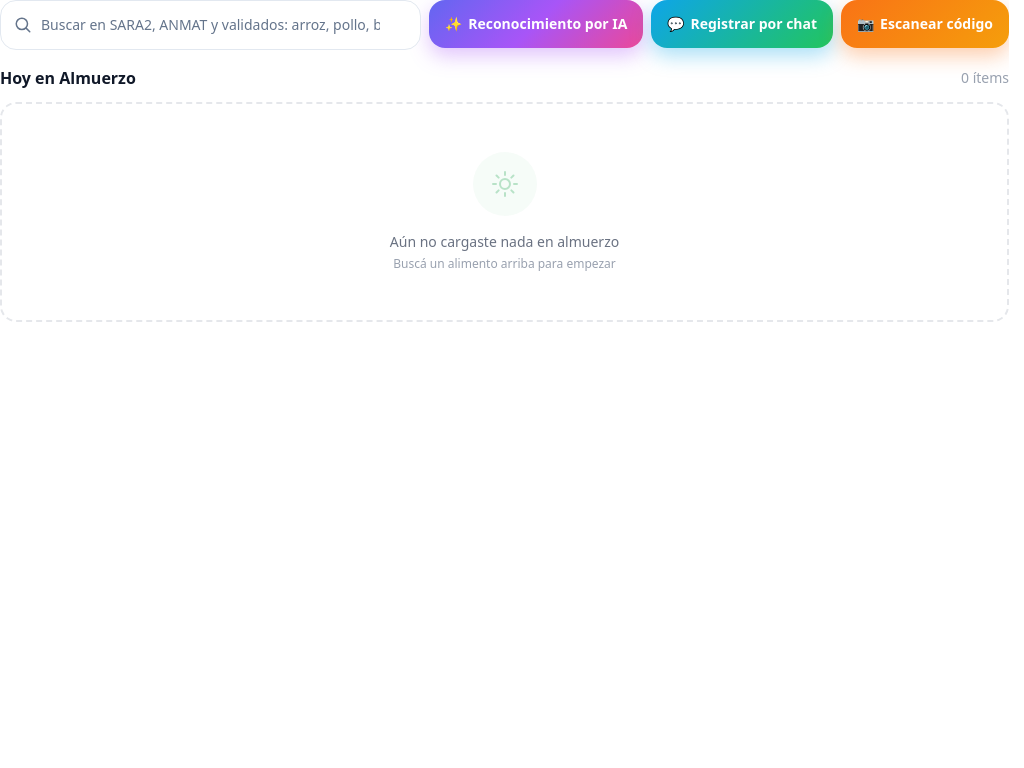
Test: Buscador de alimentos — integración ANMAT + SARA2 › badge de fuente › muestra el badge "ANMAT" para alimentos de ANMAT
Type "ace" into the field at (211, 25), box [0,0,421,50]
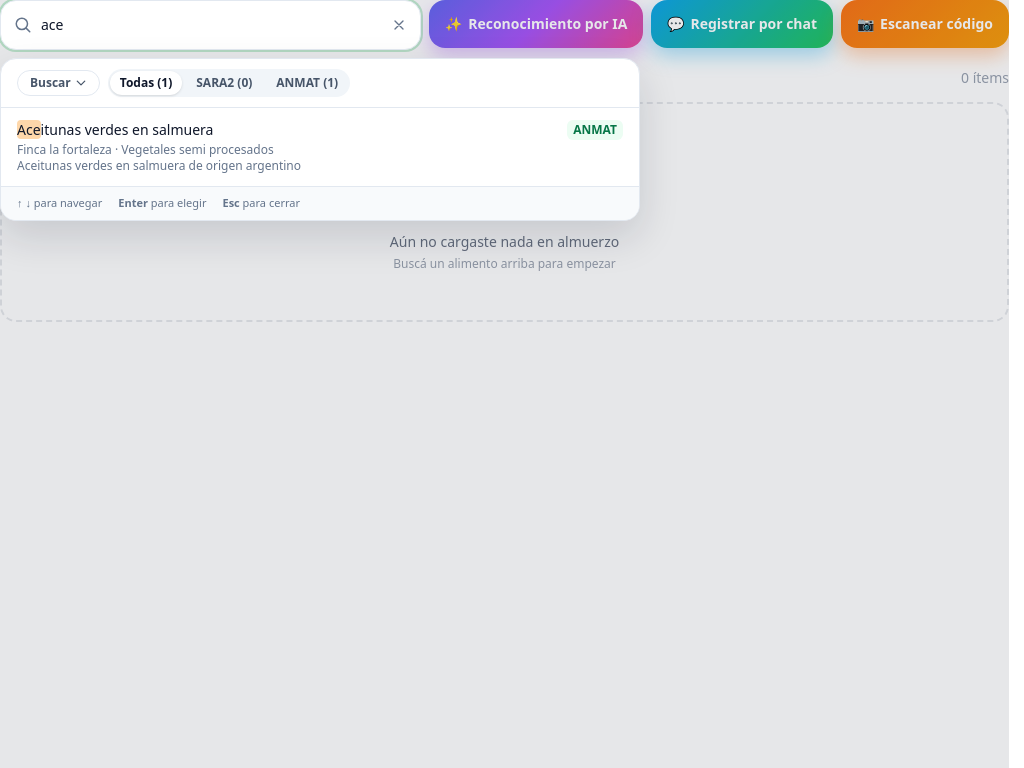
Expected: the text "ANMAT" is shown, [567,120,623,140]
